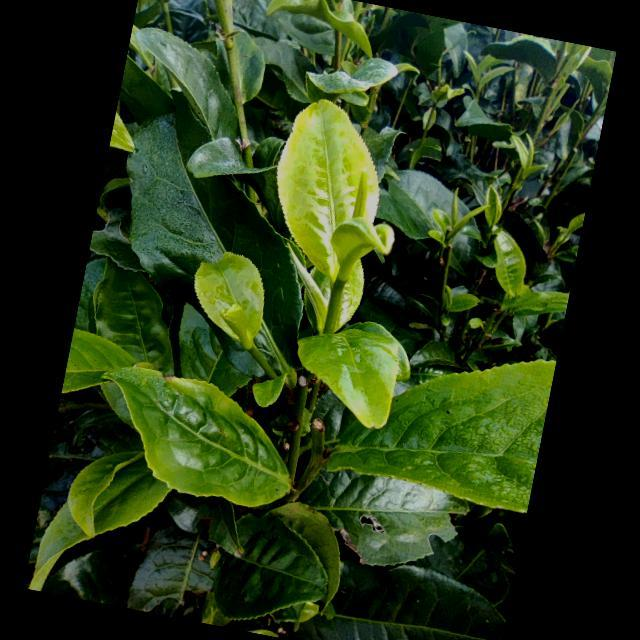Stem: (332, 291, 339, 320)
